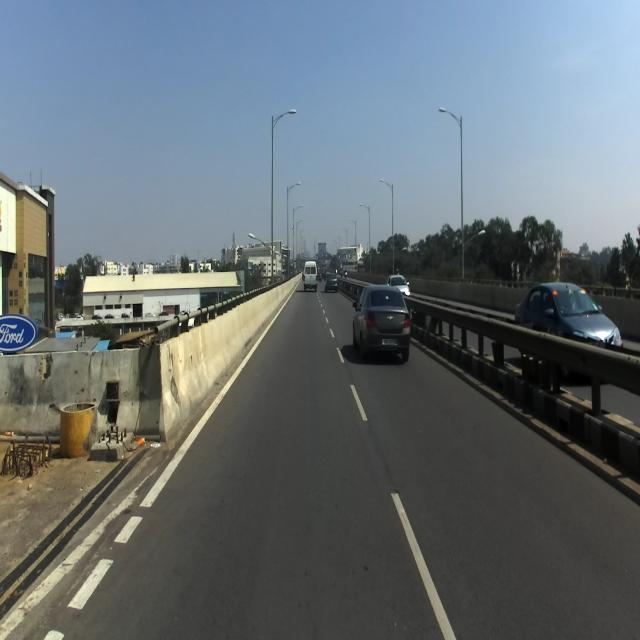car ahead at: (357, 281, 416, 357)
